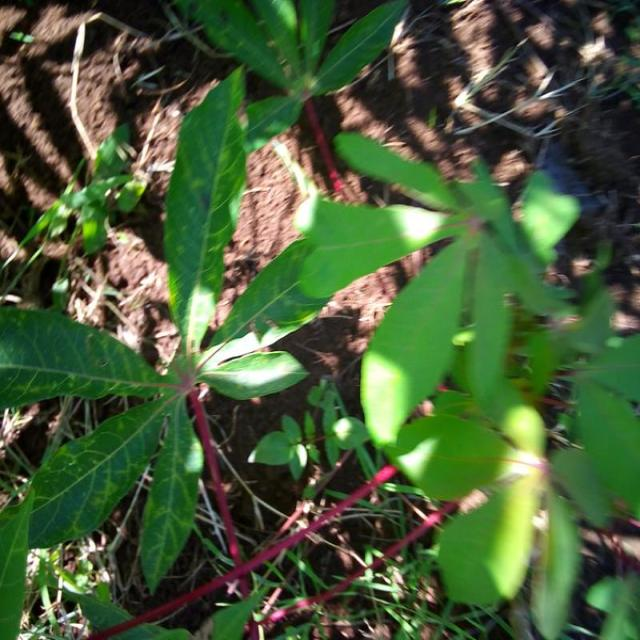cassava leaf: (162, 63, 250, 354), (1, 304, 178, 413)
